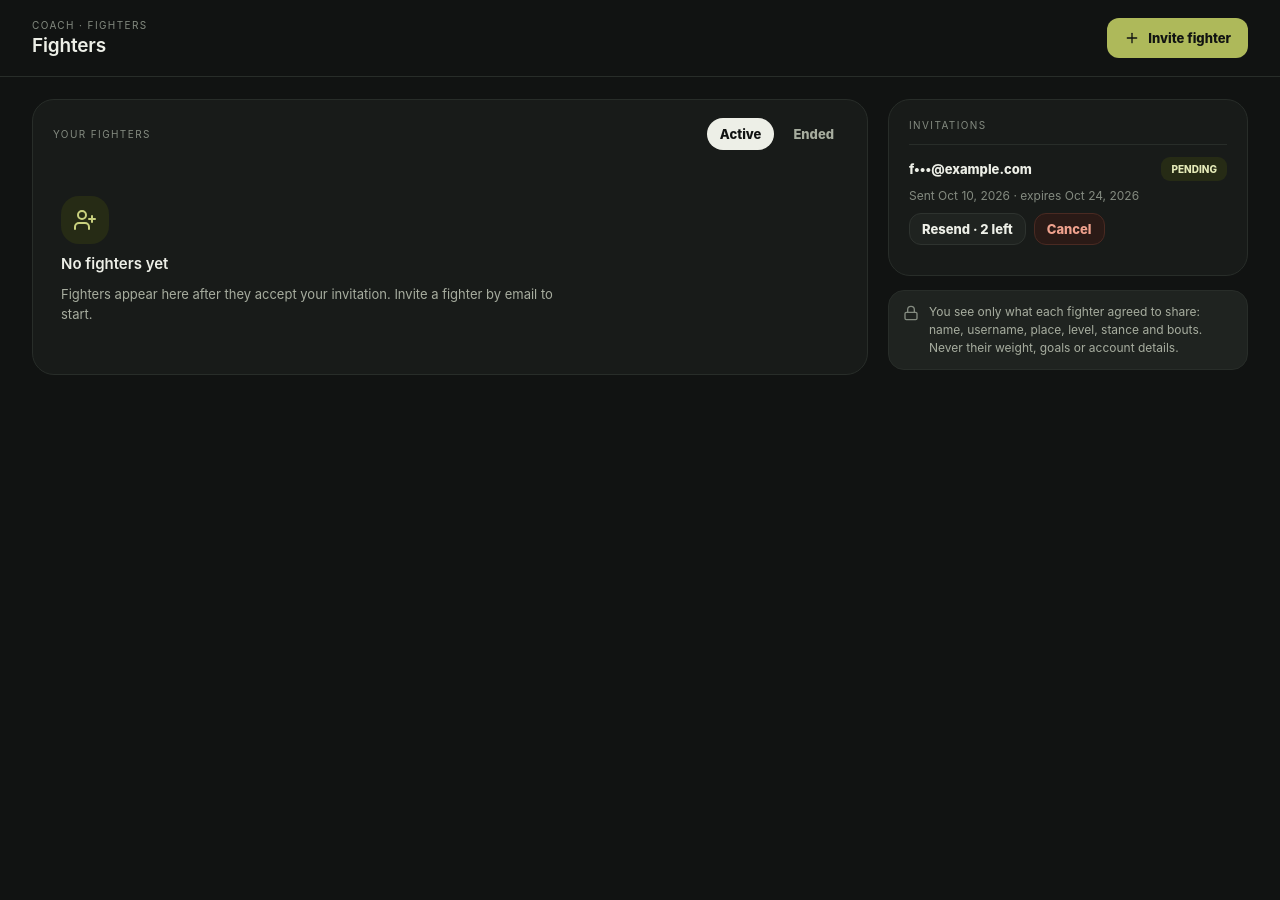
Test case: CoachFighters (WC7) invitations › cancels a pending invitation after confirmation
Click the button with aria-label "Cancel the invitation" at (1069, 229), box [1034, 213, 1104, 245]
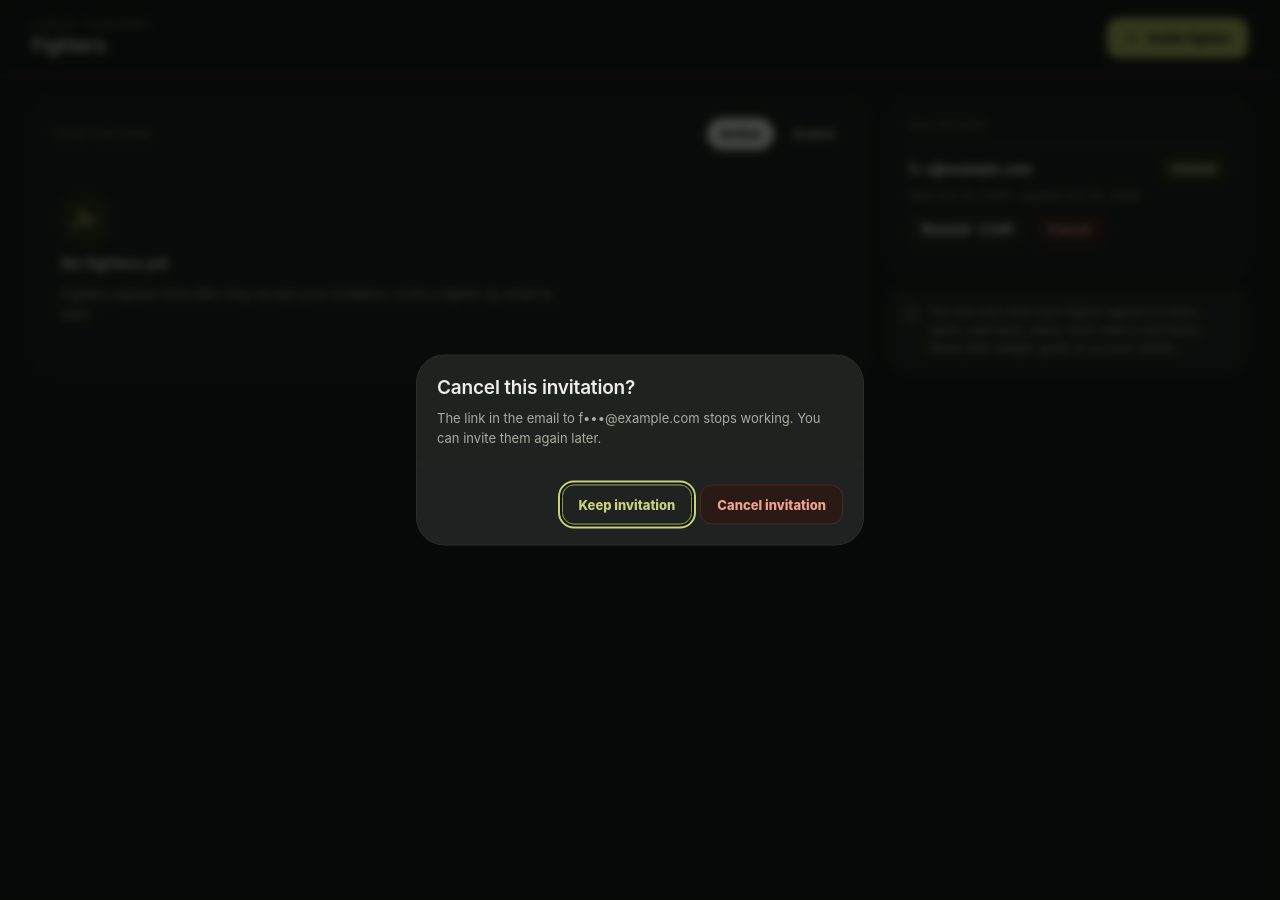
Click the button "Cancel invitation" at (772, 504), box [700, 484, 843, 524]
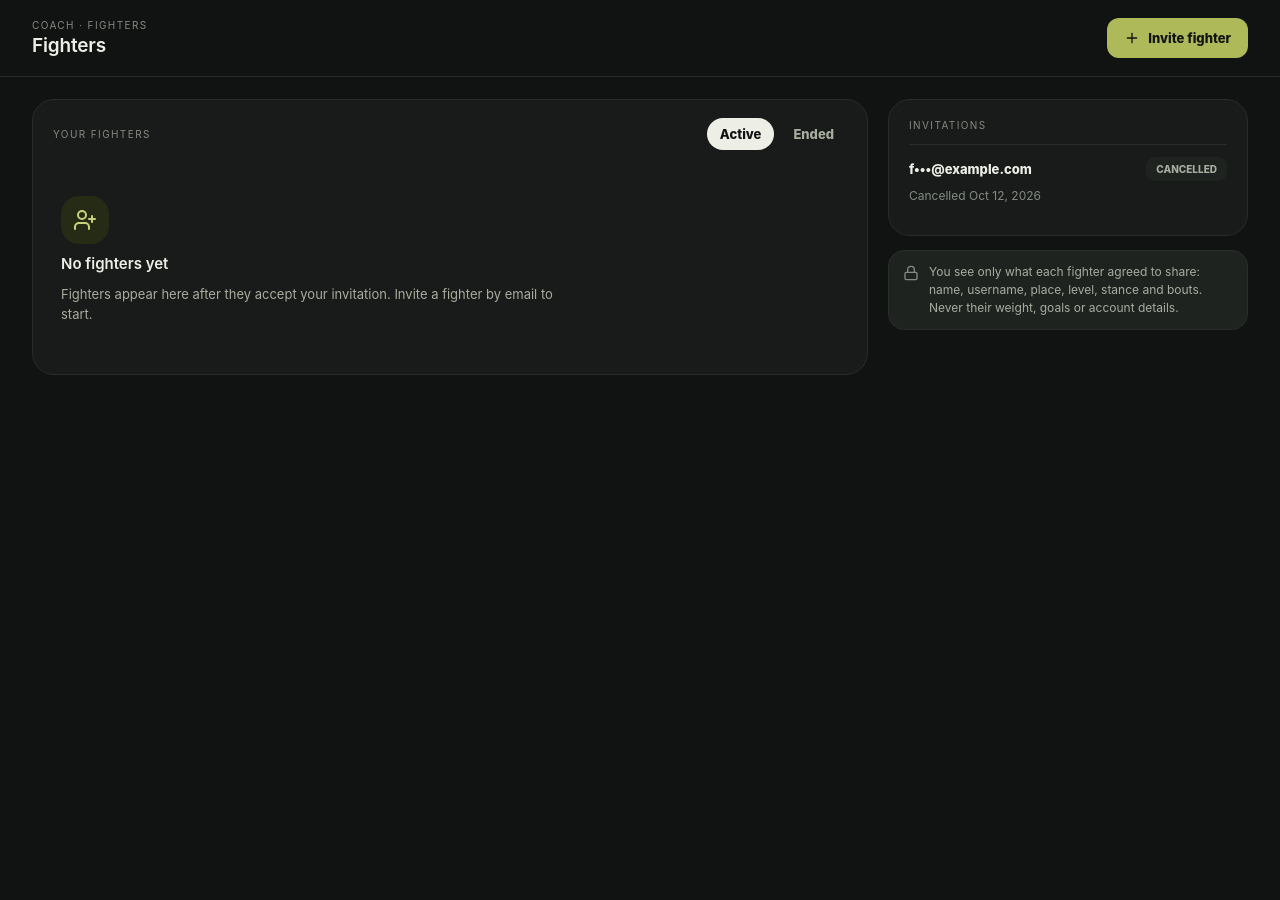
Check: the text "Cancelled" is shown, box [1146, 157, 1227, 181]
